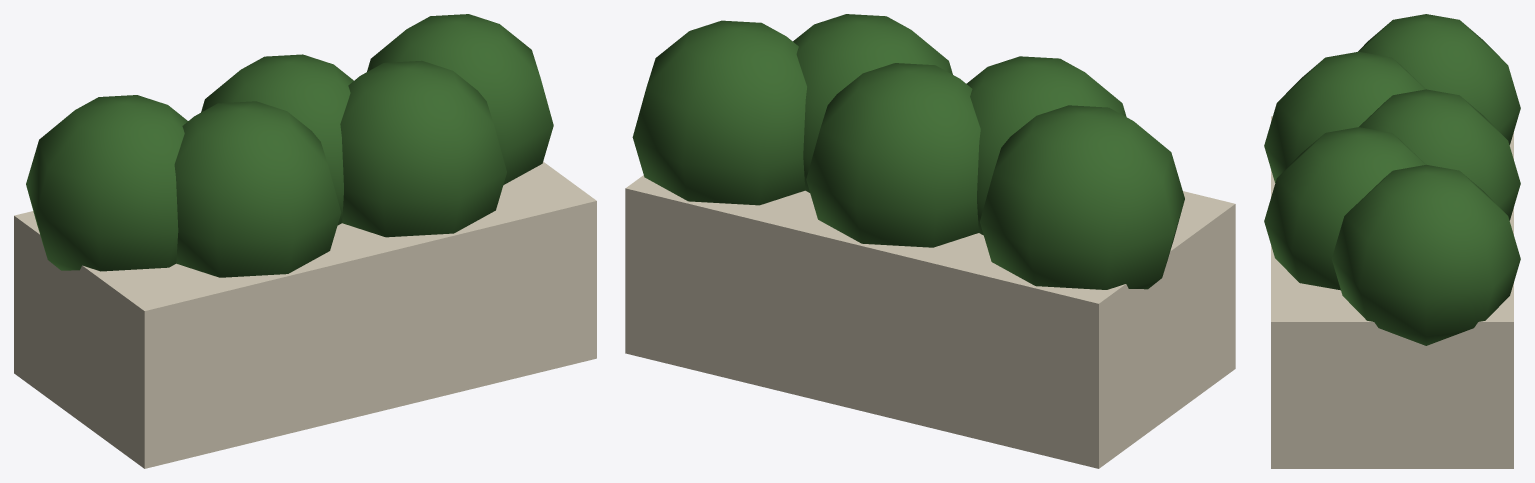
File: cp_planter.glb
The picture shows the model from 3 angles, left to right: view 1: azimuth 30°, elevation 25°; view 2: azimuth 150°, elevation 25°; view 3: azimuth 270°, elevation 25°; orthographic projection. The views are drawn at different scales.
Visible parts, largest first — view 1: city_cp_planter; view 2: city_cp_planter; view 3: city_cp_planter.
Boxes of the visible parts, x1,y1,x2,y2 form: city_cp_planter: (14,14,596,468); city_cp_planter: (625,14,1235,468); city_cp_planter: (1264,14,1520,468).
Bounding box in the file's own units: 2.02 × 1.1 × 0.95.
1 material, 1 textured.
